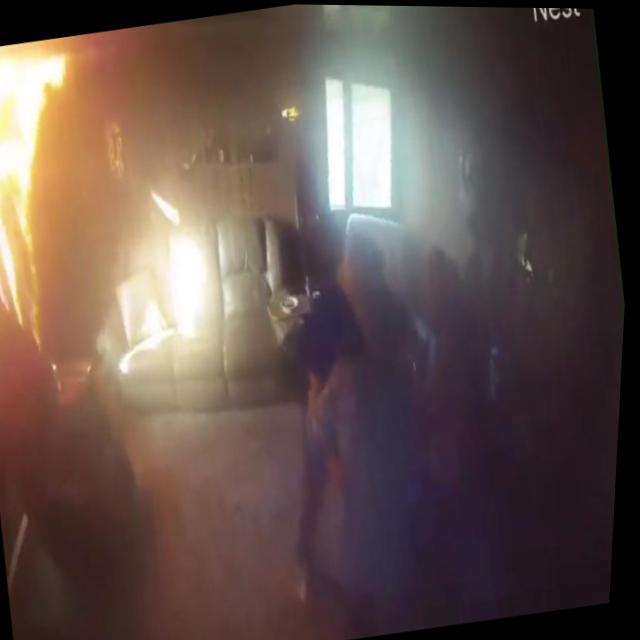fire: (0, 36, 118, 349)
